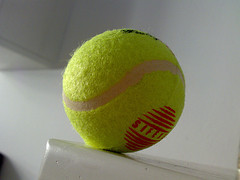tennis ball: (59, 26, 193, 156)
